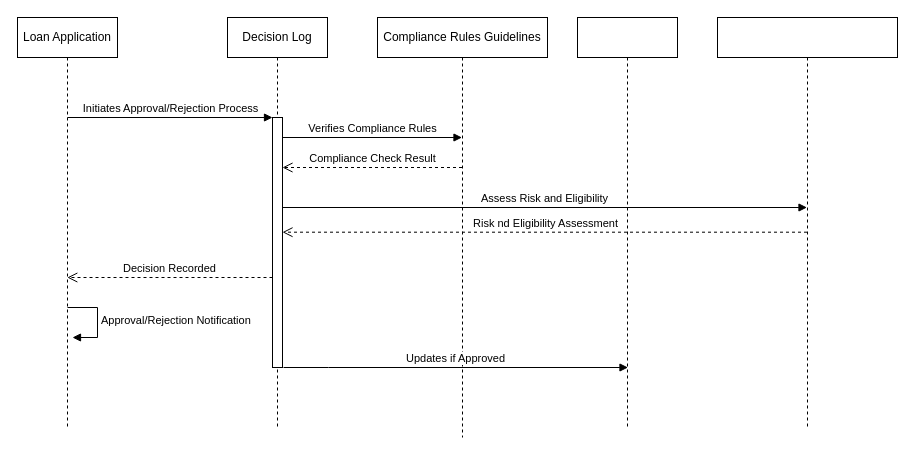
The diagram is 915 pixels wide and 455 high, and some of its shapes have lost their labels. The box of each missing label's shape, as (x1, y1, x2, y2) in pixels:
Automated Processes Algorithms: (716, 16, 898, 428)
Loan Account: (576, 16, 678, 428)
